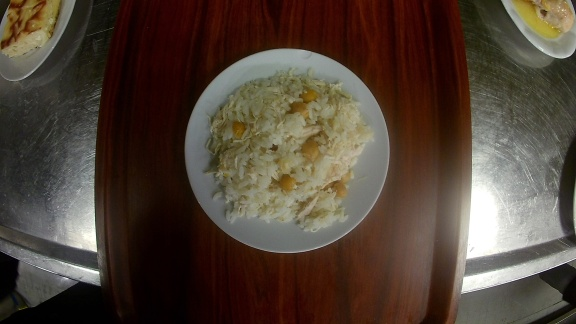nohutlupilav: (185, 48, 392, 254)
